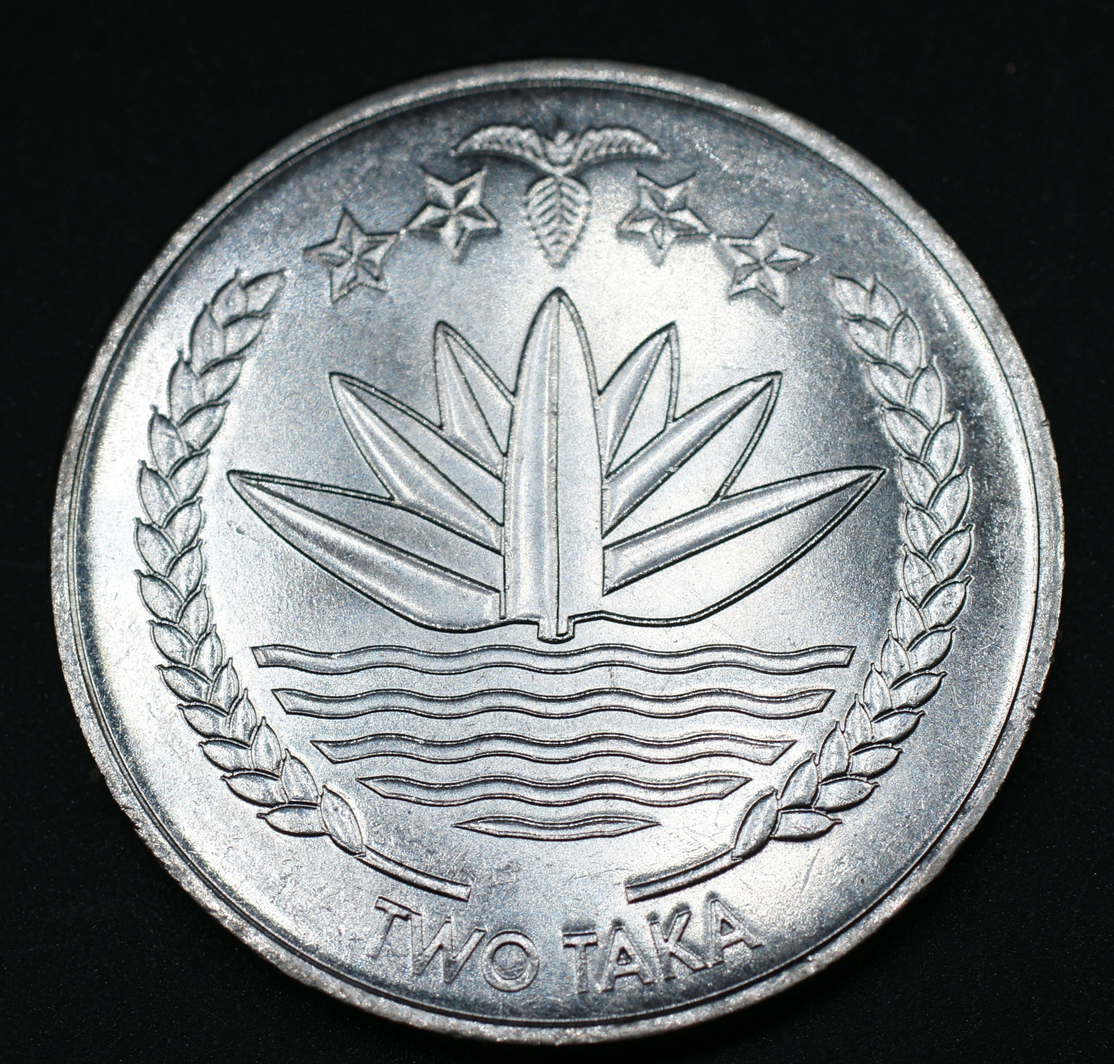5 taka coin: (51, 58, 1068, 1049)
